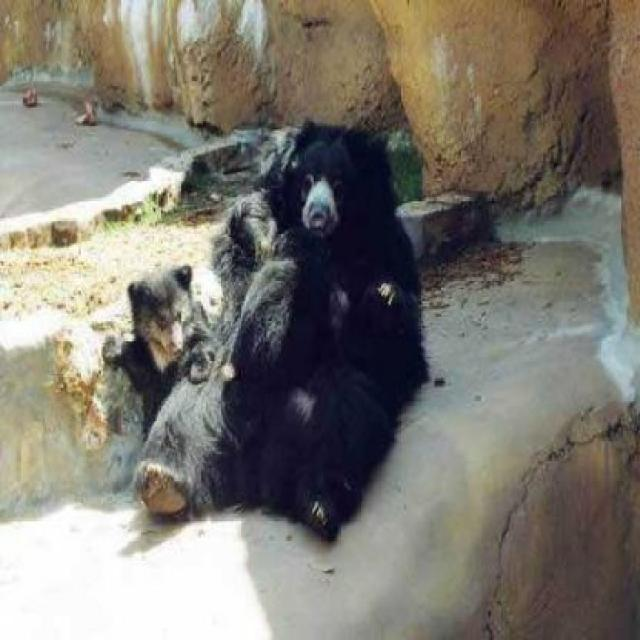Bear: (125, 81, 427, 577)
